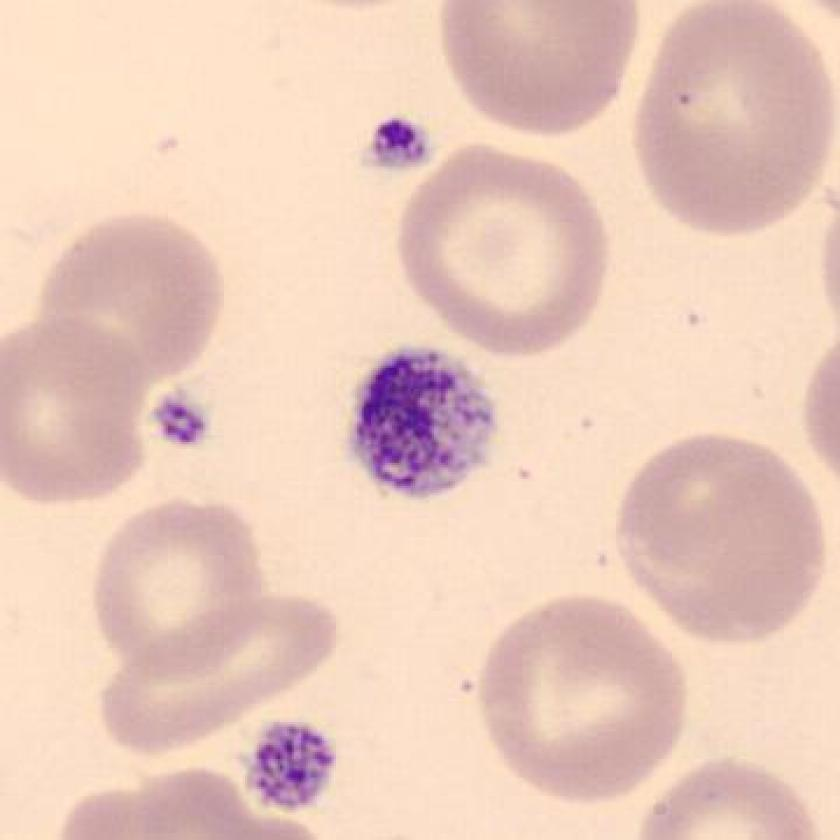platelets: (330, 334, 512, 515), (230, 707, 356, 825), (353, 101, 442, 193), (132, 376, 220, 461)
